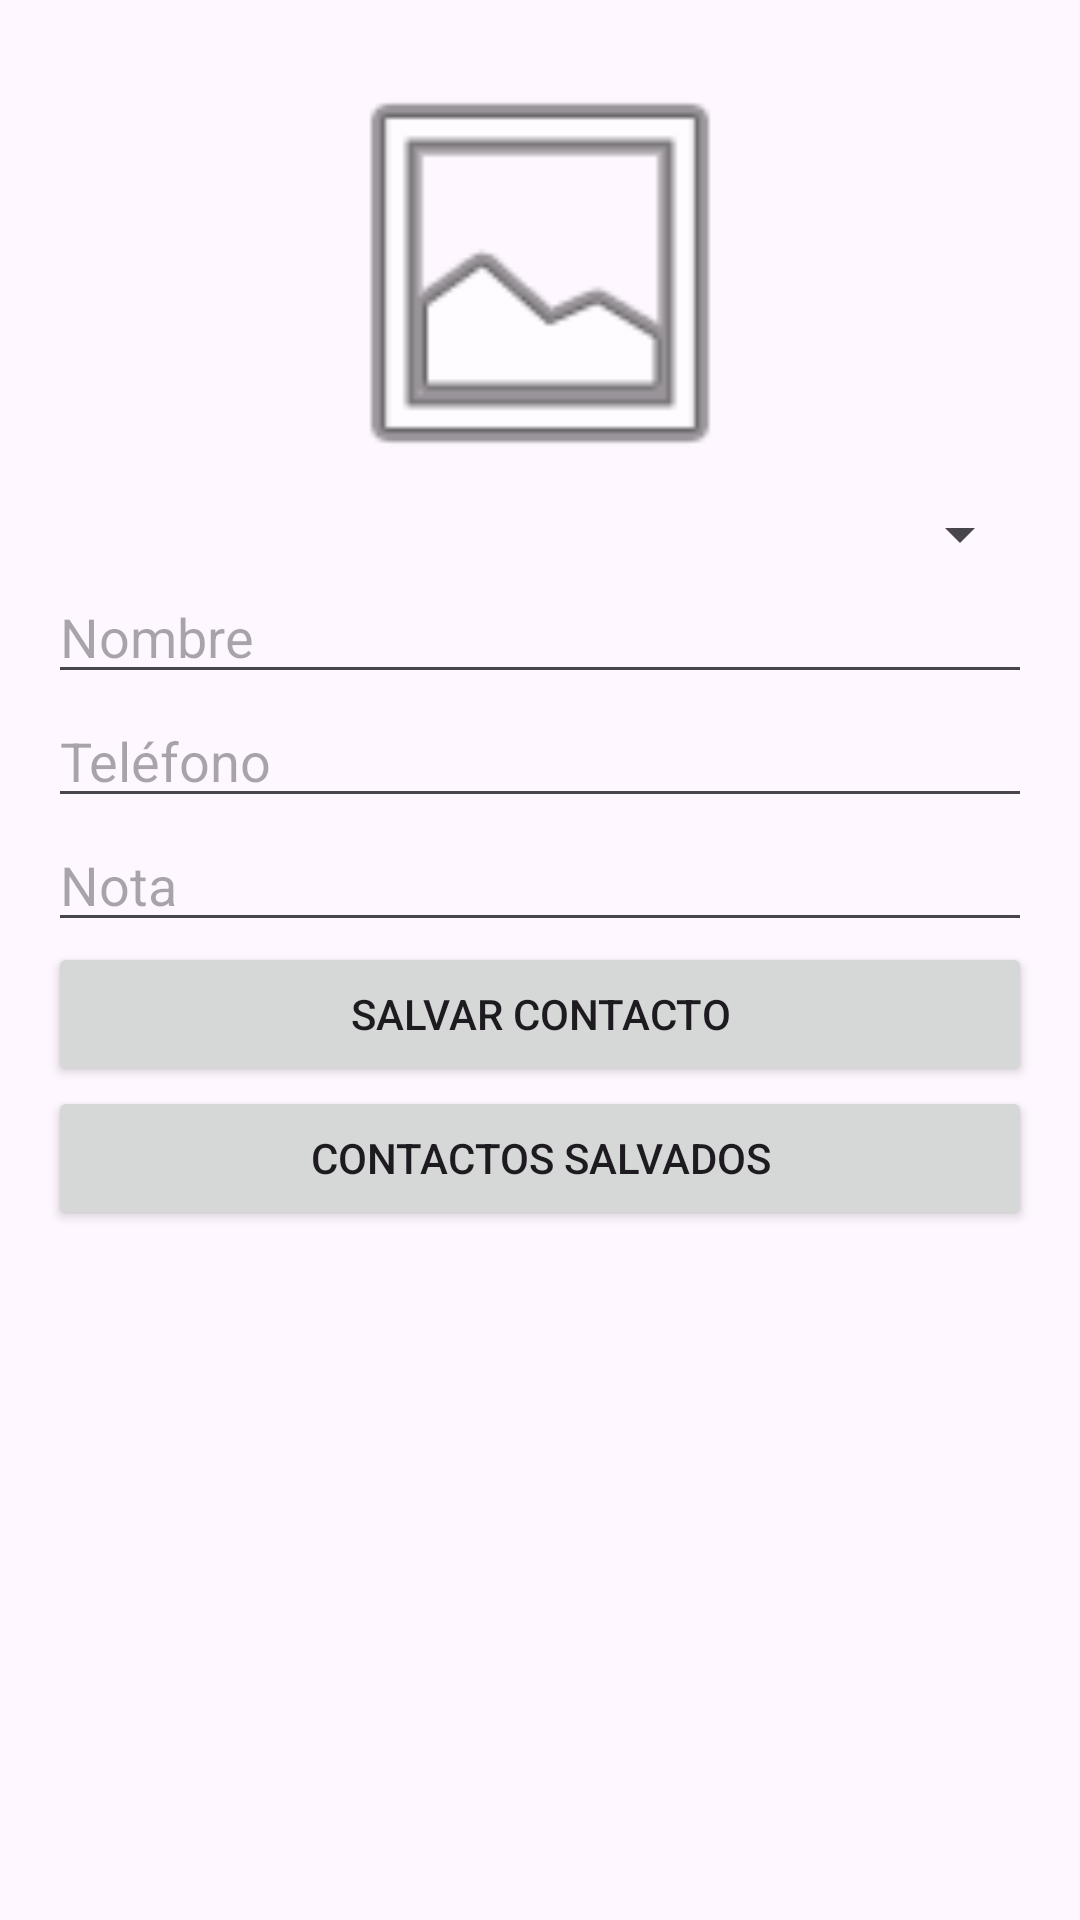

Icons on this 1080*1920 Android screen, each with the point to tap as (x,y):
gallery: (540,273)
